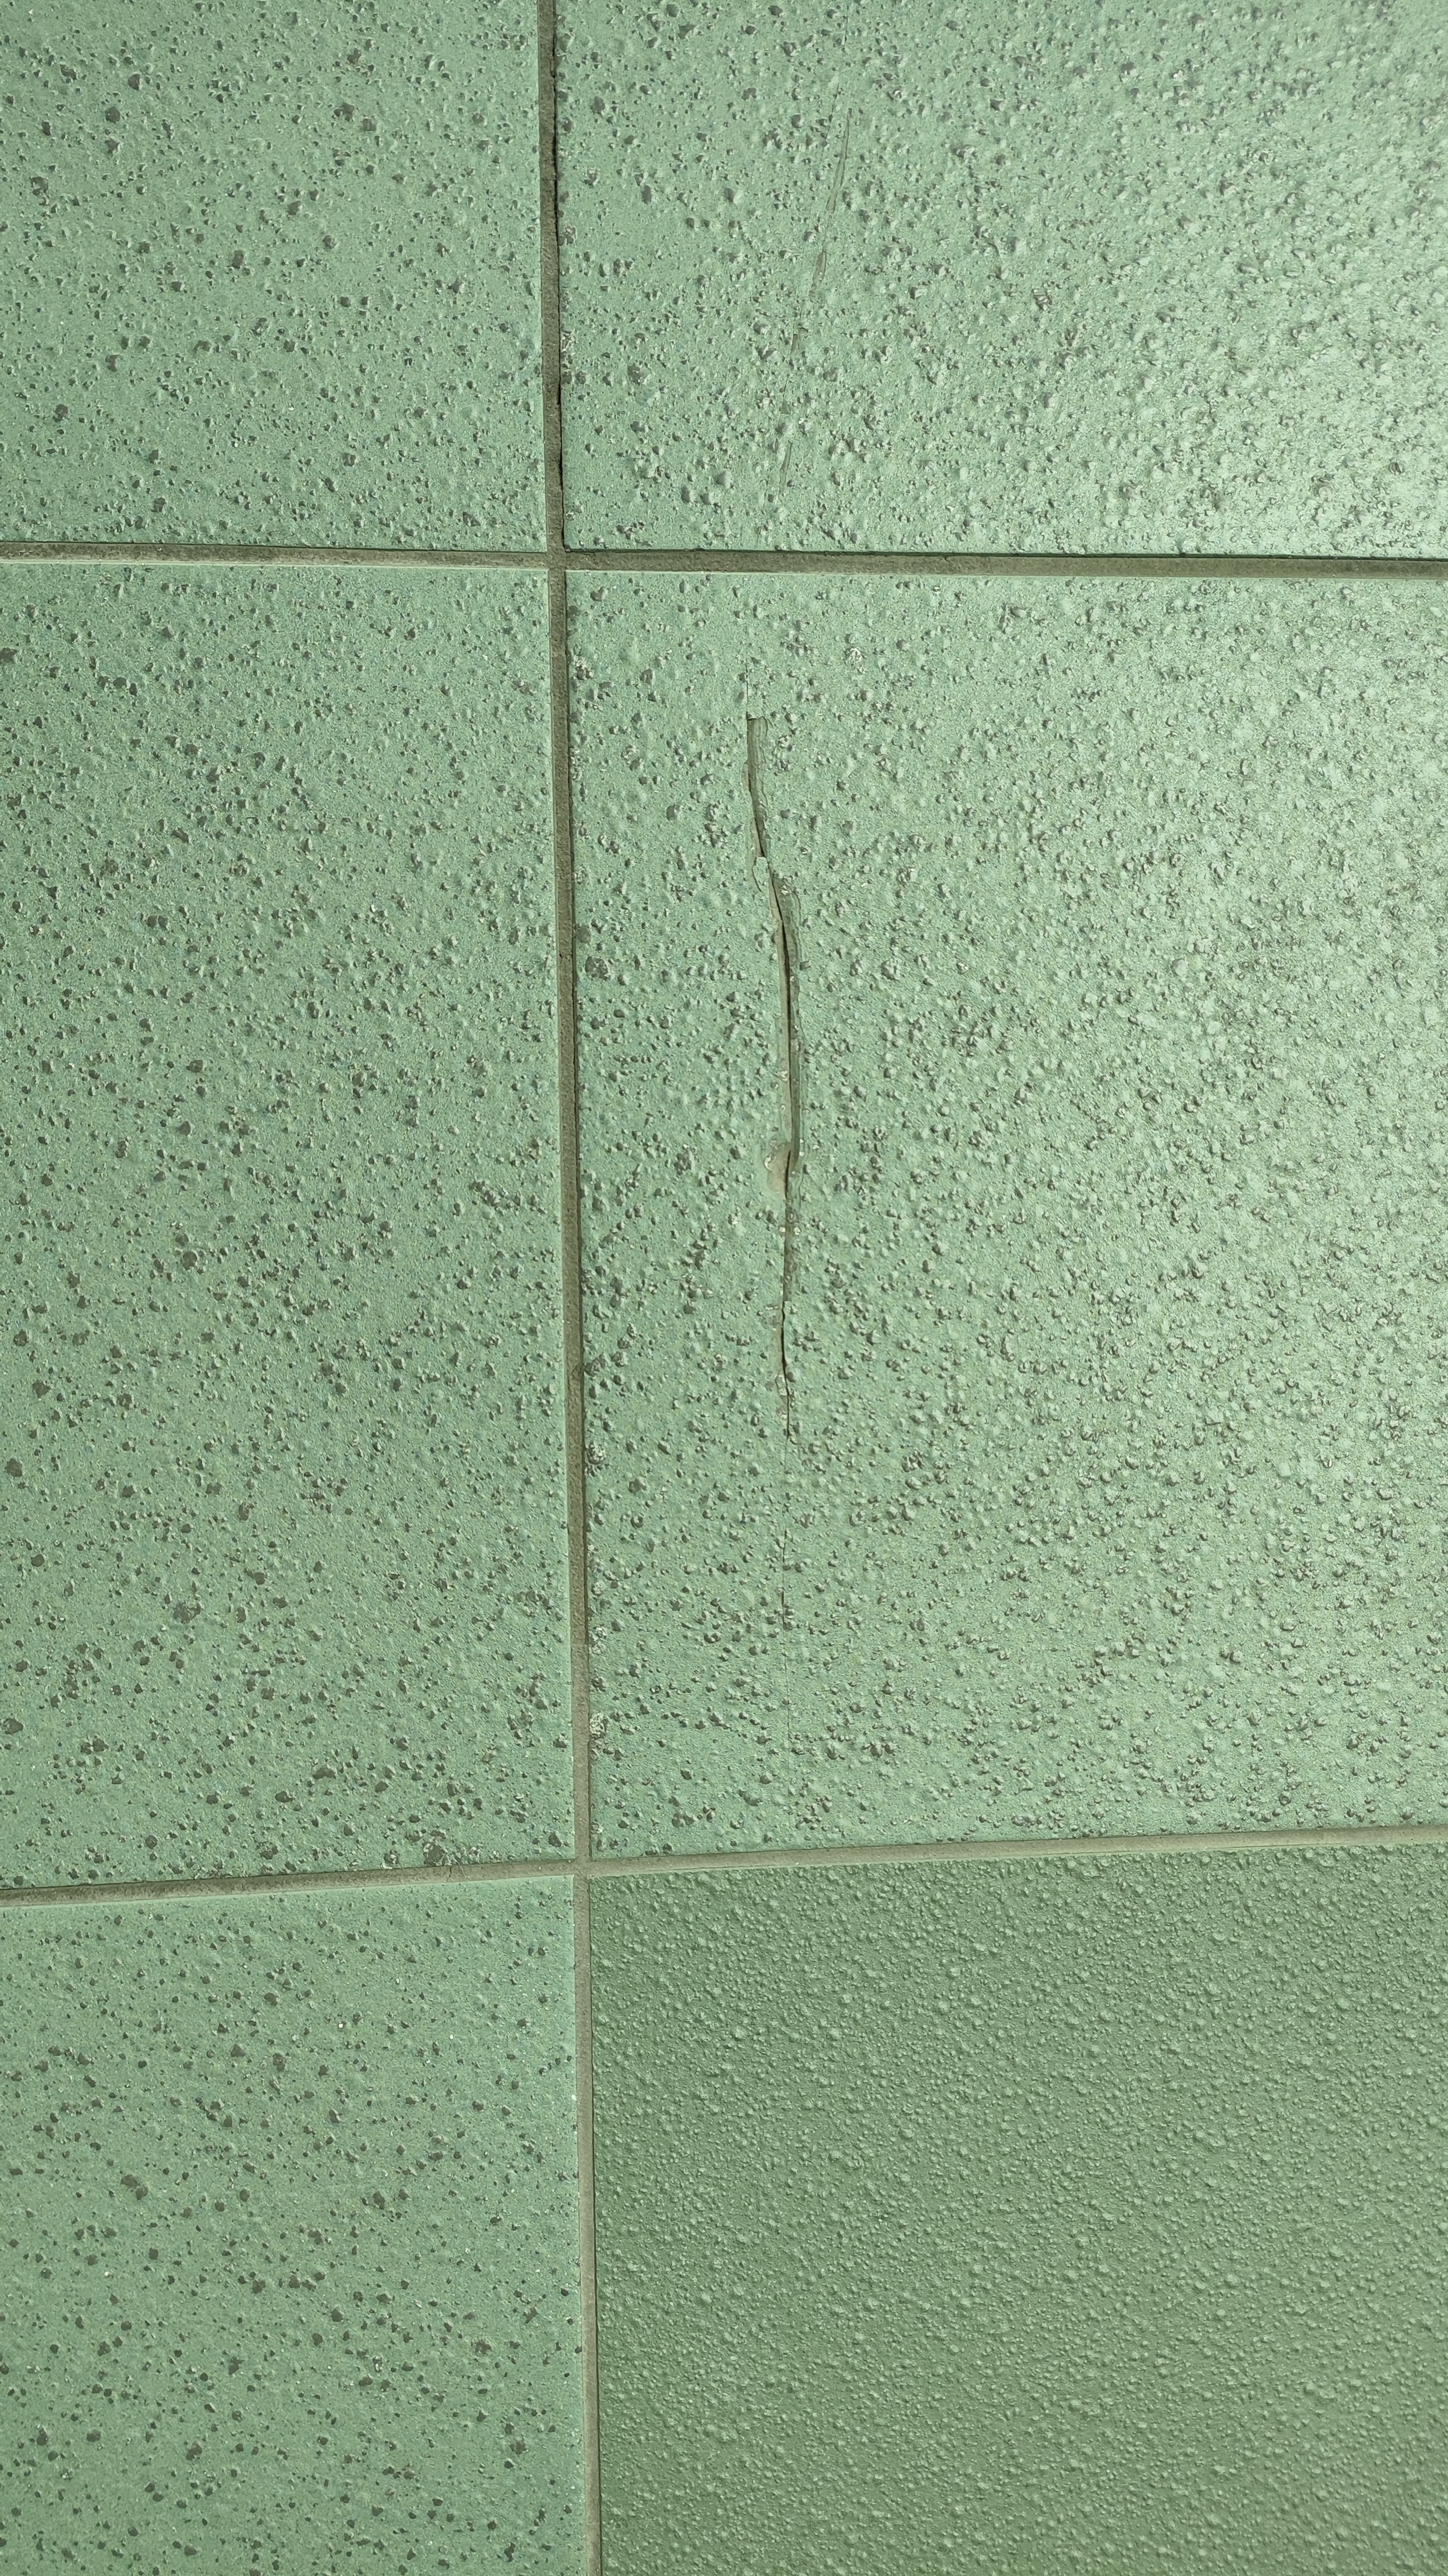Defect: (709, 681, 863, 1491)
